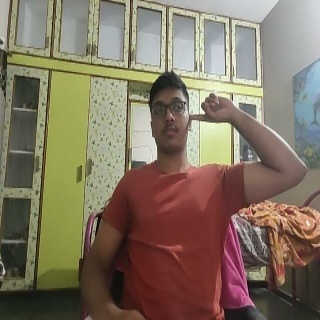Deaf: (189, 91, 244, 126)
Face: (147, 71, 193, 157)
